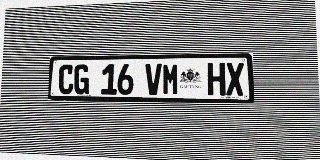1: (101, 64, 117, 95)
6: (117, 64, 134, 95)
C: (58, 64, 74, 94)
G: (74, 64, 89, 94)
H: (207, 63, 226, 96)
M: (162, 63, 179, 95)
V: (145, 63, 162, 95)
X: (226, 63, 244, 96)
